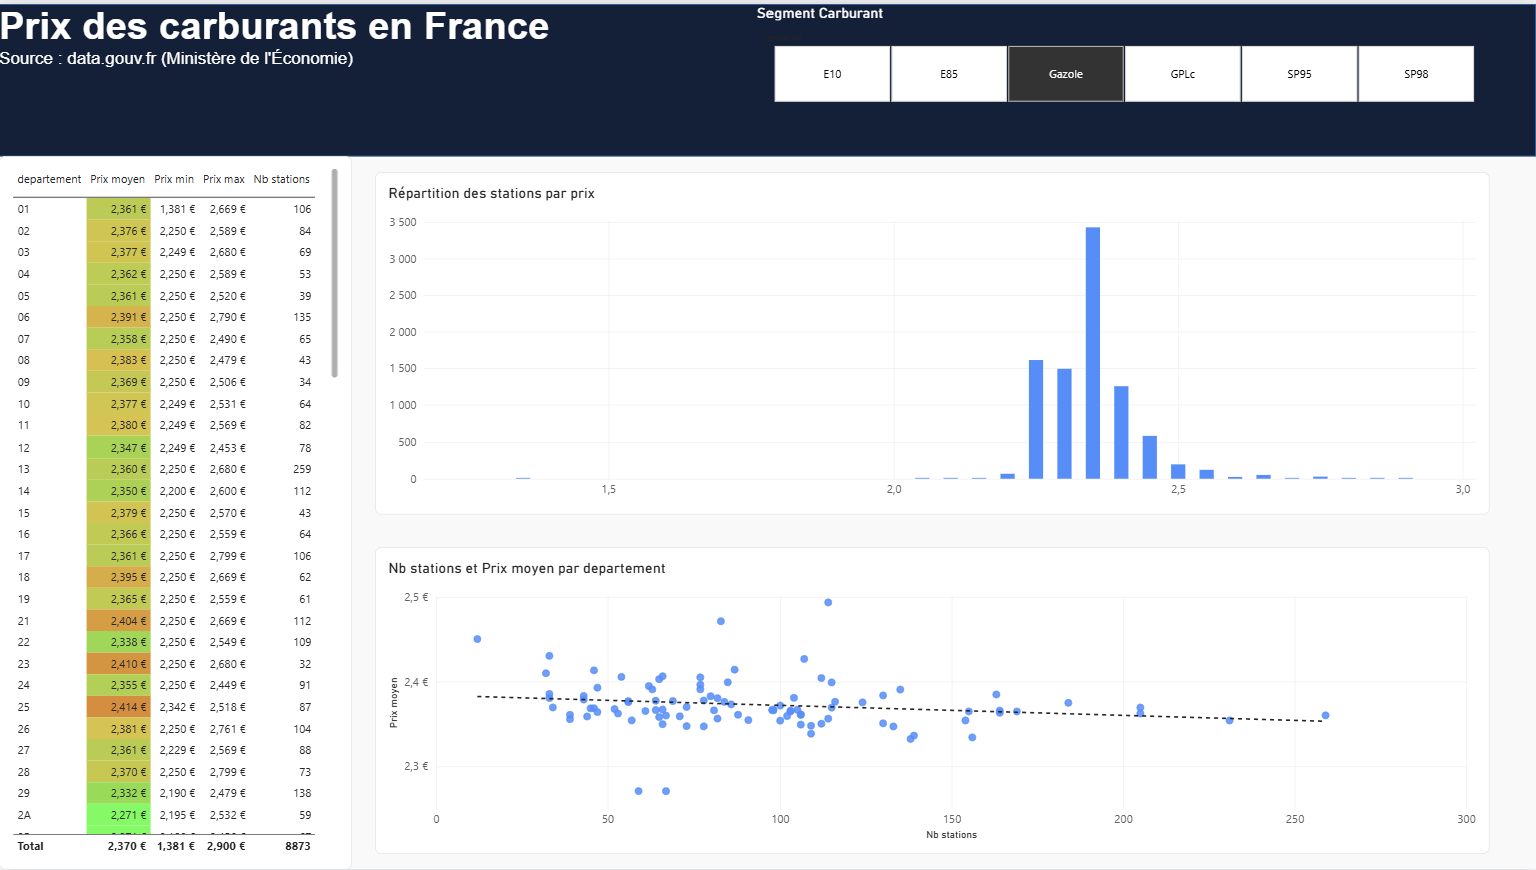

This screenshot's page, from the dashboard's own definition file:
{"tool":"powerbi","page":{"name":"Analyse","canvas":[1920,1080],"ordinal":1},"visuals":[{"type":"shape","box":[0,0,1920,190.6],"z":0},{"type":"tableEx","fields":{"Values":["prix_carburants.departement","prix_carburants.Prix moyen","prix_carburants.Prix min","prix_carburants.Prix max","prix_carburants.Nb stations"]},"box":[0,190.6,441,891.1],"z":1000},{"type":"scatterChart","title":"Nb stations et Prix moyen par departement","fields":{"Category":["prix_carburants.departement"],"X":["prix_carburants.Nb stations"],"Y":["prix_carburants.Prix moyen"]},"box":[470.8,677.5,1391.8,383.5],"z":2000},{"type":"clusteredColumnChart","title":"Répartition des stations par prix","fields":{"Category":["prix_carburants.prix (compartiments)"],"Y":["prix_carburants.Nb stations"]},"box":[470.8,209,1391.8,427.2],"z":3000},{"type":"slicer","title":"Segment Carburant","fields":{"Values":["prix_carburants.carburant"]},"box":[948.5,0,914.1,124],"z":4000},{"type":"textbox","box":[0,0,838.3,110.2],"z":5000}]}

Visuals, with their boxes in screenshot pixels (x1, y1, x2, y2), scaled from the page's 1920x1080 canvas onto the 1536x870 screenshot:
shape: box(0, 0, 1535, 154)
tableEx - prix_carburants.departement x prix_carburants.Prix moyen: box(0, 154, 353, 869)
"Nb stations et Prix moyen par departement" scatterChart: box(377, 546, 1490, 855)
"Répartition des stations par prix" clusteredColumnChart: box(377, 168, 1490, 512)
"Segment Carburant" slicer: box(759, 0, 1490, 100)
textbox: box(0, 0, 671, 89)
